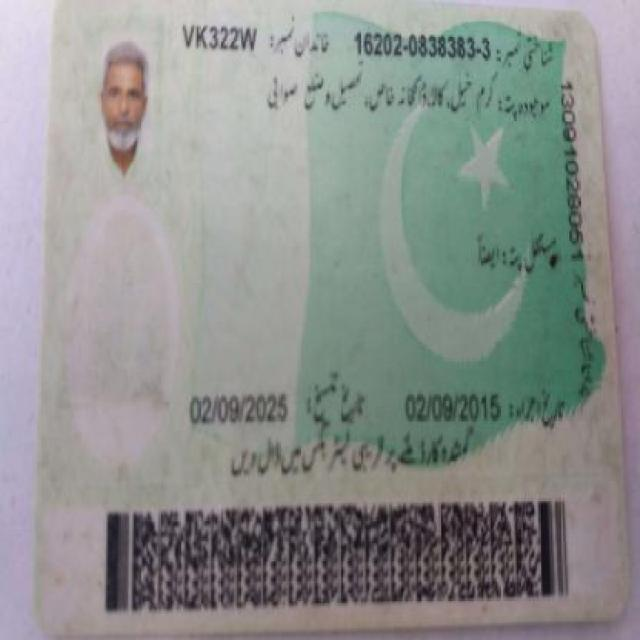Back: (57, 4, 620, 634)
